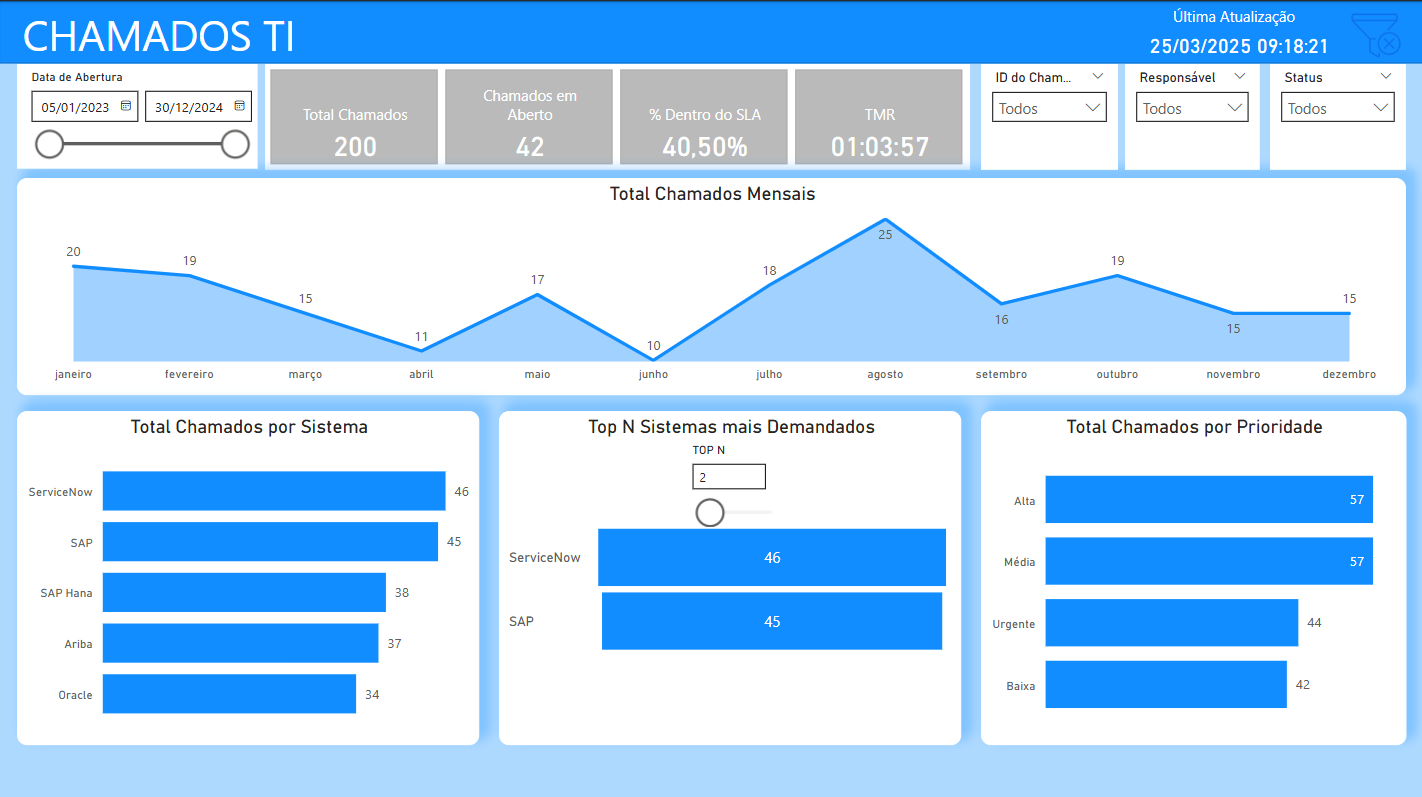

What the dashboard file says about the page in this screenshot:
{"tool":"powerbi","page":{"name":"Chamados","canvas":[1280,720],"ordinal":0},"visuals":[{"type":"funnel","title":"Top N Sistemas mais Demandados","fields":{"Y":["Medidas.Top 5 Sistemas"],"Category":["chamados_ti.Sistema"]},"box":[448.8,368.2,415.3,300.2],"z":0},{"type":"cardVisual","fields":{"Data":["Medidas.Total Chamados","Medidas.Chamados em Aberto","Medidas.% Dentro do SLA","Medidas.TMR"]},"box":[238.8,56.6,632.9,95.2],"z":1000},{"type":"areaChart","title":"Total Chamados Mensais","fields":{"Y":["Medidas.Total Chamados"],"Category":["chamados_ti.Data de Abertura.Variation.Hierarquia de datas.Mês"]},"box":[16.3,158.7,1246.9,195],"z":2000},{"type":"clusteredBarChart","fields":{"Category":["chamados_ti.Sistema"],"Y":["Medidas.Total Chamados"]},"box":[16.3,368.2,415,300.2],"z":3000},{"type":"clusteredBarChart","fields":{"Category":["chamados_ti.Prioridade"],"Y":["Medidas.Total Chamados"]},"box":[881.6,368.1,381.5,299.9],"z":4000},{"type":"shape","box":[0,0,1280.4,56.2],"z":5000},{"type":"textbox","box":[16.3,0,292,62.6],"z":6000},{"type":"image","box":[1209.3,0,53.9,62.8],"z":7000},{"type":"slicer","fields":{"Values":["chamados_ti.ID do Chamado"]},"box":[881.6,56.6,123,95.2],"z":8000},{"type":"slicer","fields":{"Values":["chamados_ti.Responsável"]},"box":[1010.9,56.6,121.2,95.2],"z":9000},{"type":"slicer","fields":{"Values":["chamados_ti.Status"]},"box":[1141,56.6,122.1,95.2],"z":10000},{"type":"slicer","fields":{"Values":["chamados_ti.Data de Abertura"]},"box":[16.2,56.6,216.4,94.3],"z":11000},{"type":"card","fields":{"Values":["Min(Atualização.Atualização)"]},"box":[1023.4,24.2,180.4,32.3],"z":12000},{"type":"textbox","box":[1040.5,0,136.5,34.1],"z":13000},{"type":"slicer","fields":{"Values":["TOP N.TOP N"]},"box":[609.6,391.4,106.8,79.9],"z":14000}]}

Visuals, with their boxes in screenshot pixels (x1, y1, x2, y2), scaled from the page's 1280x720 canvas onto the 1422x797 screenshot:
"Top N Sistemas mais Demandados" funnel: (499,408,960,740)
cardVisual - Medidas.Total Chamados x Medidas.Chamados em Aberto: (265,63,968,168)
"Total Chamados Mensais" areaChart: (18,176,1403,392)
clusteredBarChart - chamados_ti.Sistema x Medidas.Total Chamados: (18,408,479,740)
clusteredBarChart - chamados_ti.Prioridade x Medidas.Total Chamados: (979,407,1403,739)
shape: (0,0,1421,62)
textbox: (18,0,343,69)
image: (1343,0,1403,70)
slicer - chamados_ti.ID do Chamado: (979,63,1116,168)
slicer - chamados_ti.Responsável: (1123,63,1258,168)
slicer - chamados_ti.Status: (1268,63,1403,168)
slicer - chamados_ti.Data de Abertura: (18,63,258,167)
card - Min(Atualização.Atualização): (1137,27,1337,63)
textbox: (1156,0,1308,38)
slicer - TOP N.TOP N: (677,433,796,522)
